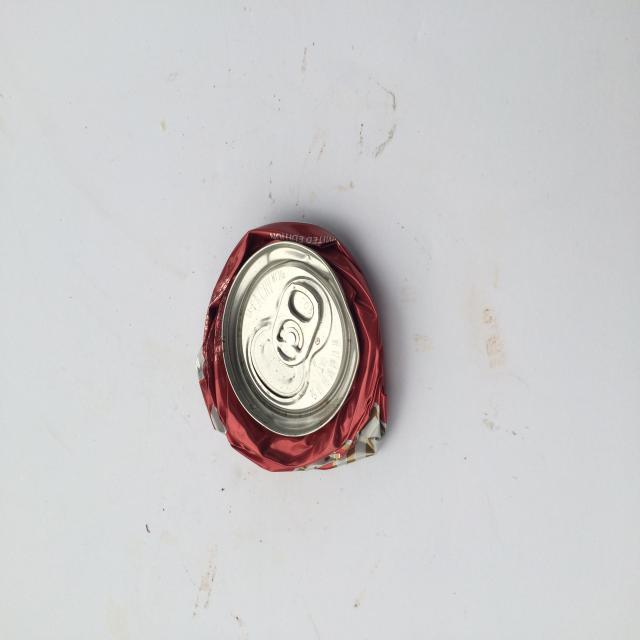metal: (198, 222, 389, 472)
